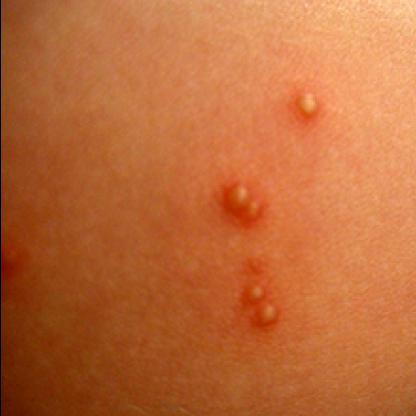Fire ant: (238, 280, 278, 324), (221, 178, 261, 218), (290, 83, 318, 121)
